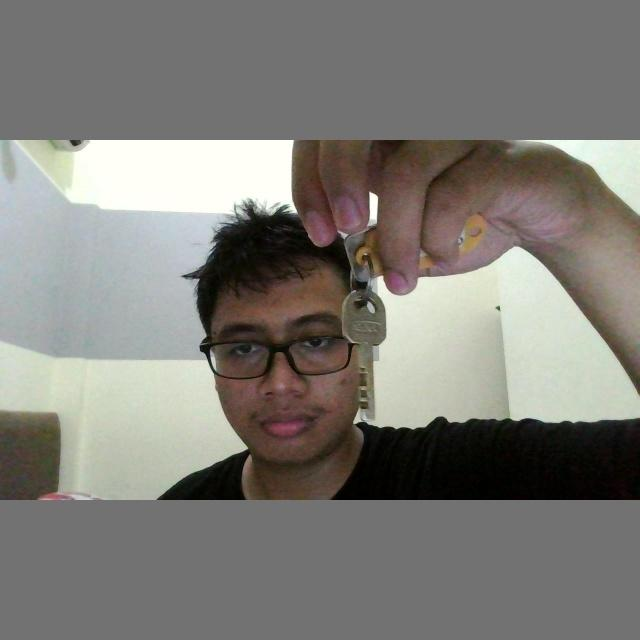Keys: (334, 284, 386, 428)
